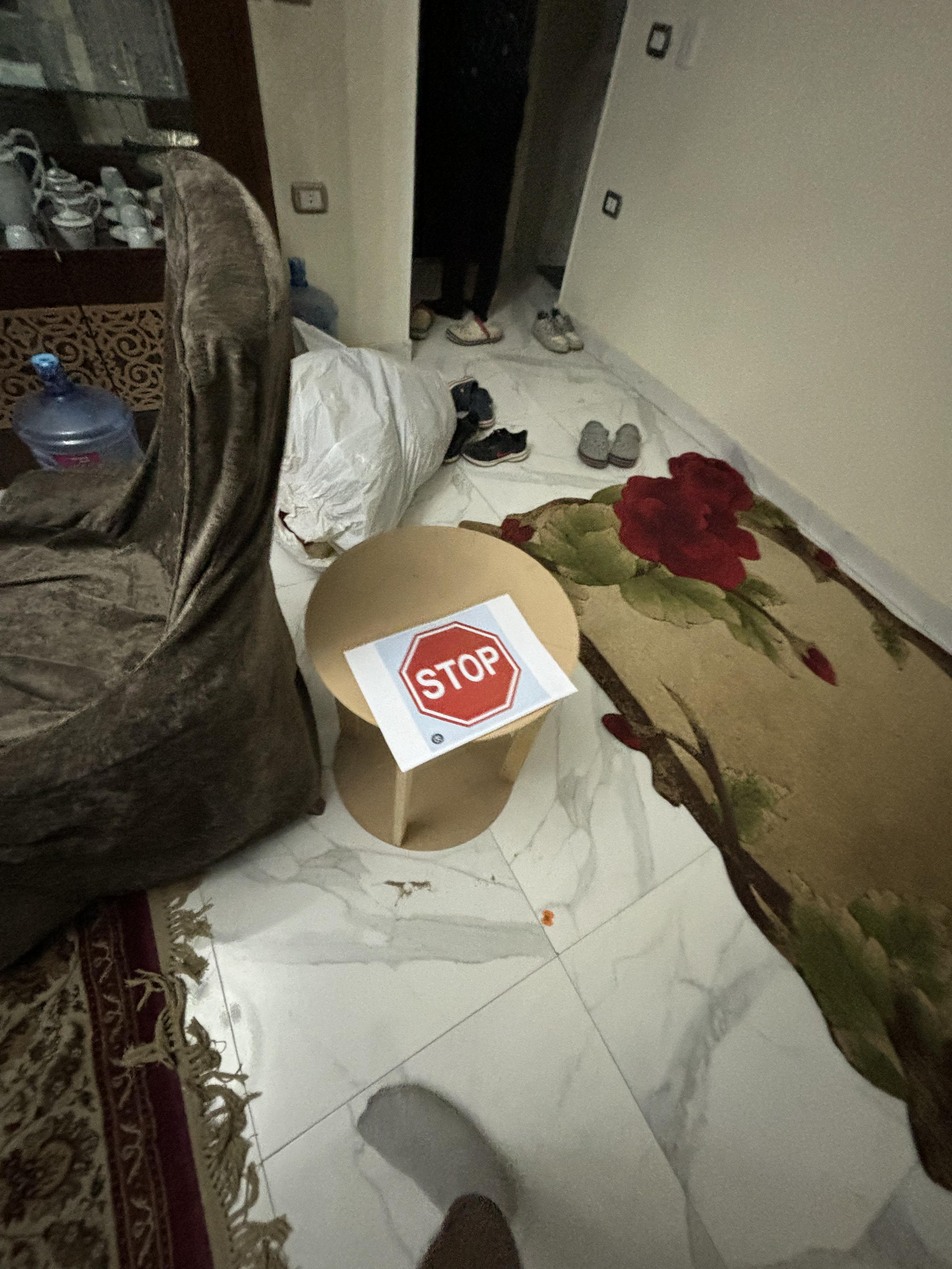Stop: (393, 618, 534, 735)
